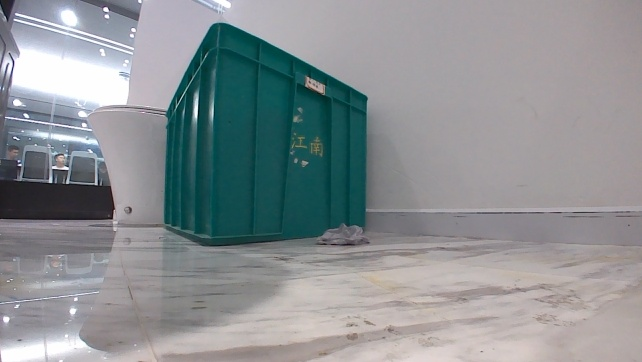socks: (313, 220, 370, 246)
toilet: (84, 101, 172, 228)
